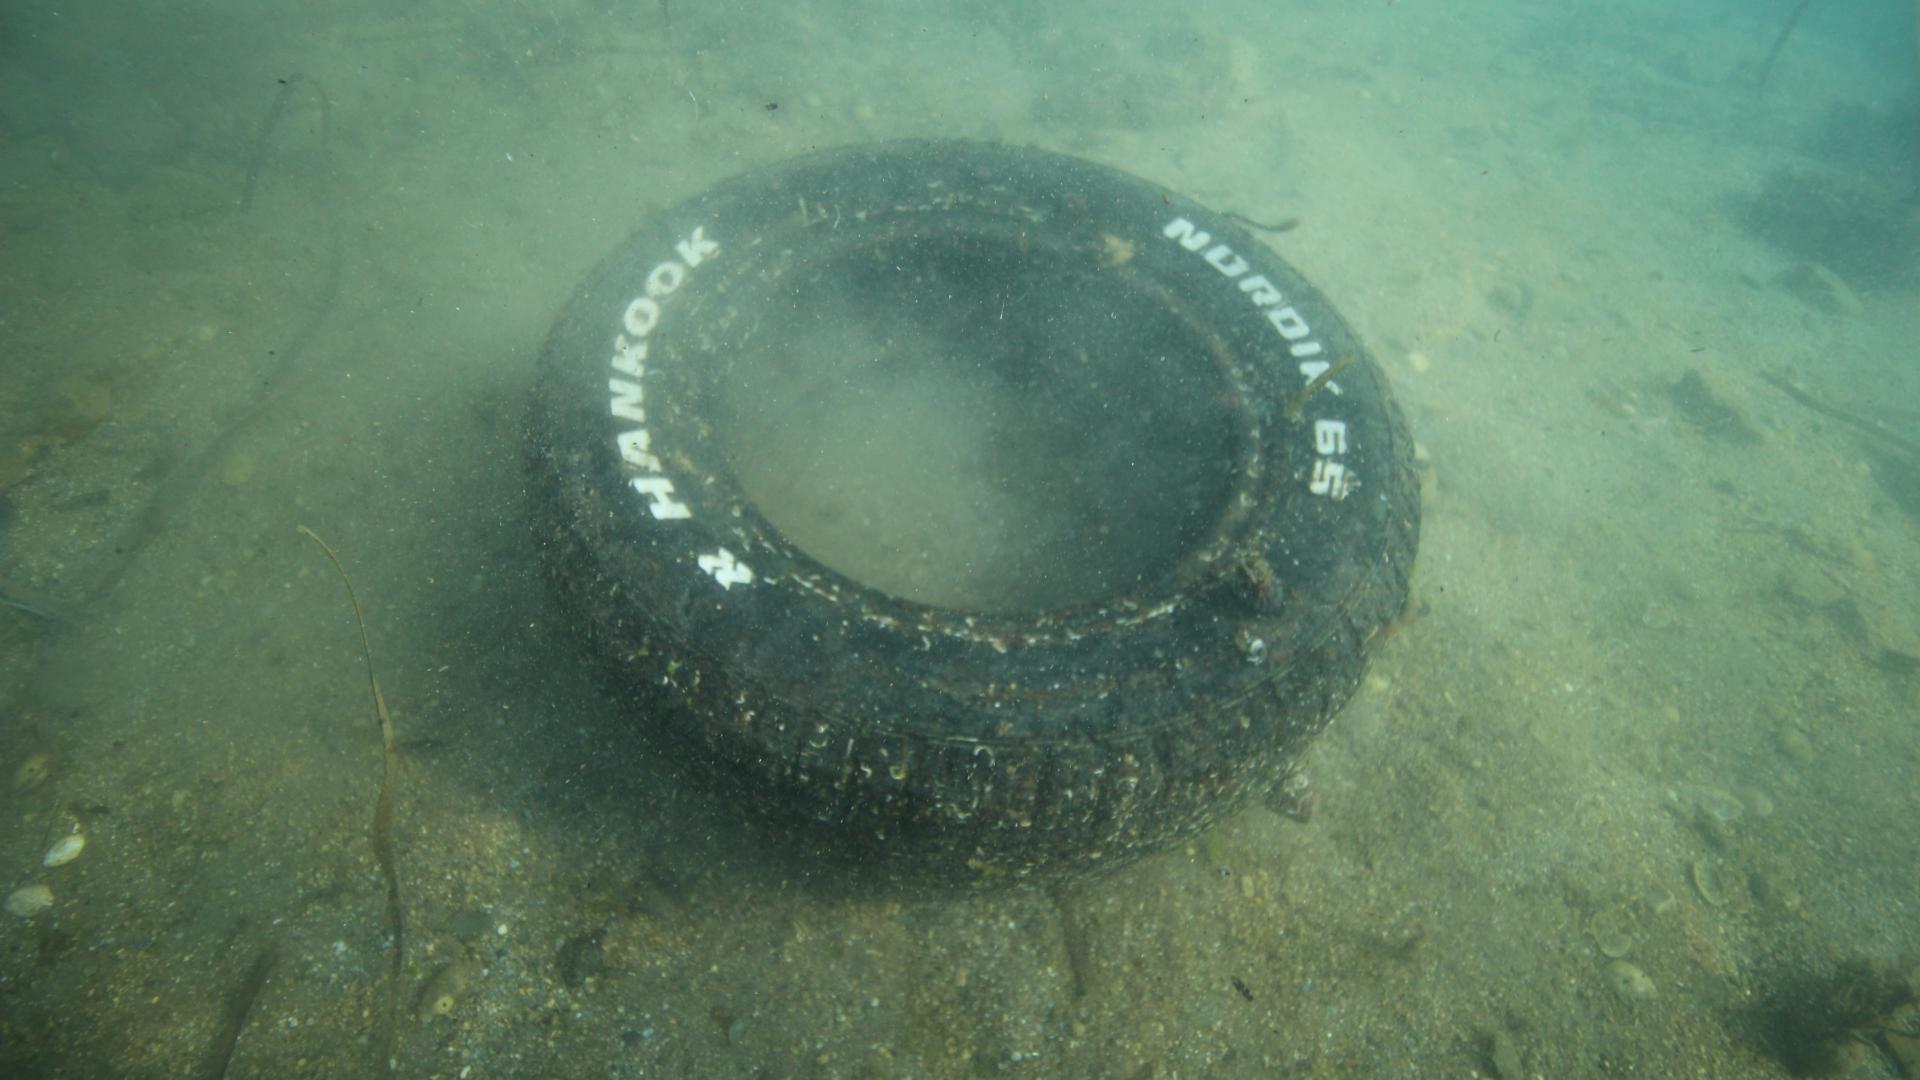tire: (529, 140, 1412, 865)
